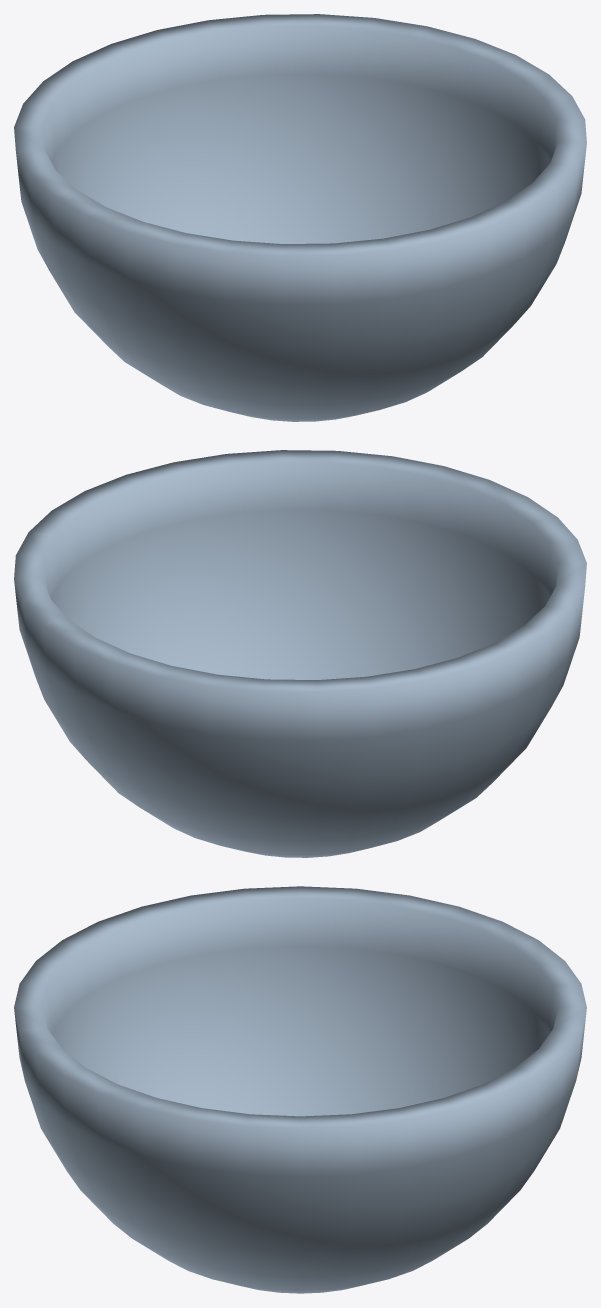
Rendered from stage.obj.
3 renders of one model, top to bottom at view 1: azimuth 30°, elevation 25°; view 2: azimuth 150°, elevation 25°; view 3: azimuth 270°, elevation 25°, orthographic.
Visible parts, largest first — view 1: 球; view 2: 球; view 3: 球.
Boxes of the visible parts, x1,y1,x2,y2 form: 球: [14, 14, 586, 421]; 球: [14, 450, 586, 857]; 球: [14, 886, 586, 1293].
Size of the model in its own units: 2 by 1 by 2.
